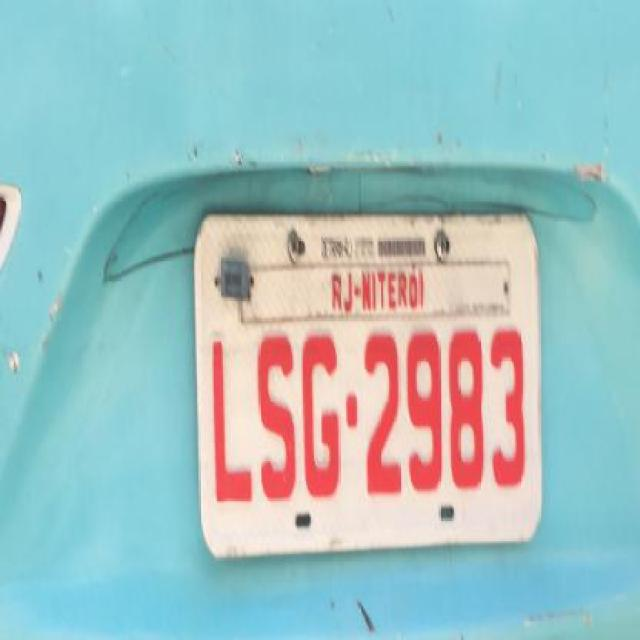old_plate: (189, 206, 549, 564)
